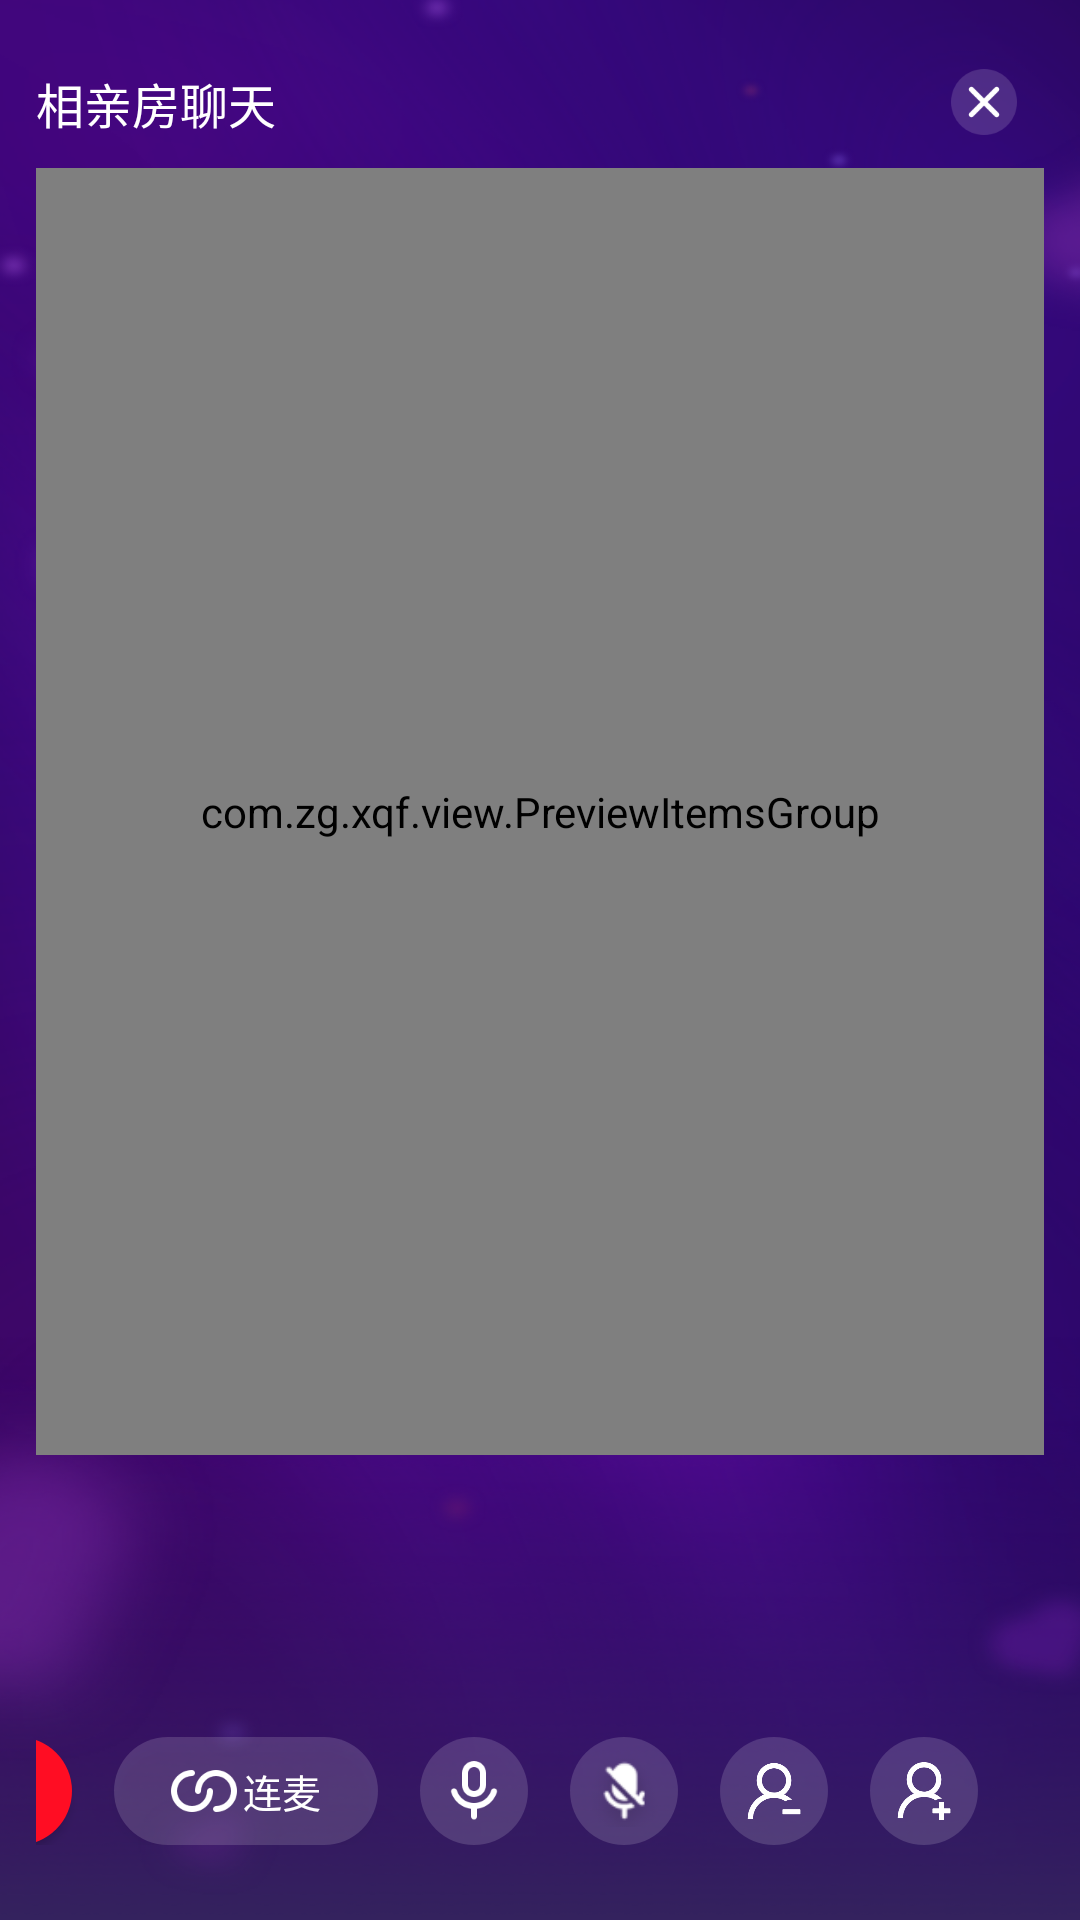

Icon click points for this 1080x1920 phone screenshot, format [x,y]:
add user: [924,1791]
close: [984,102]
del user: [774,1791]
mic no speech: [624,1791]
mic switch: [474,1791]
